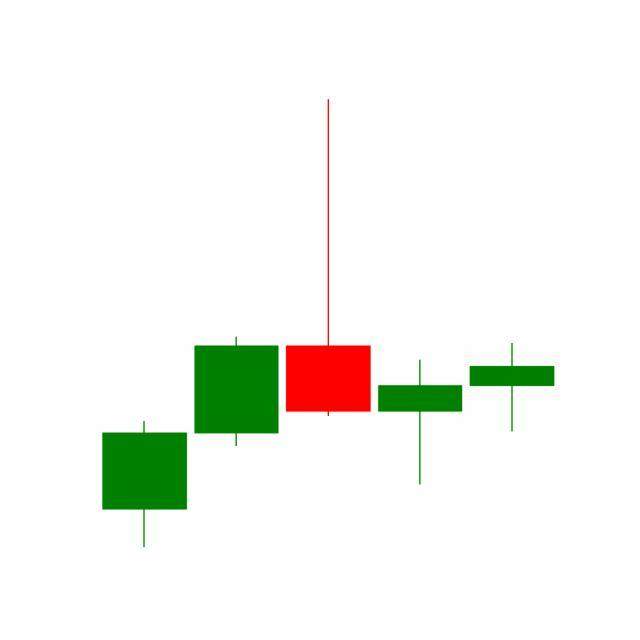Spinning Top: (466, 342, 559, 434)
